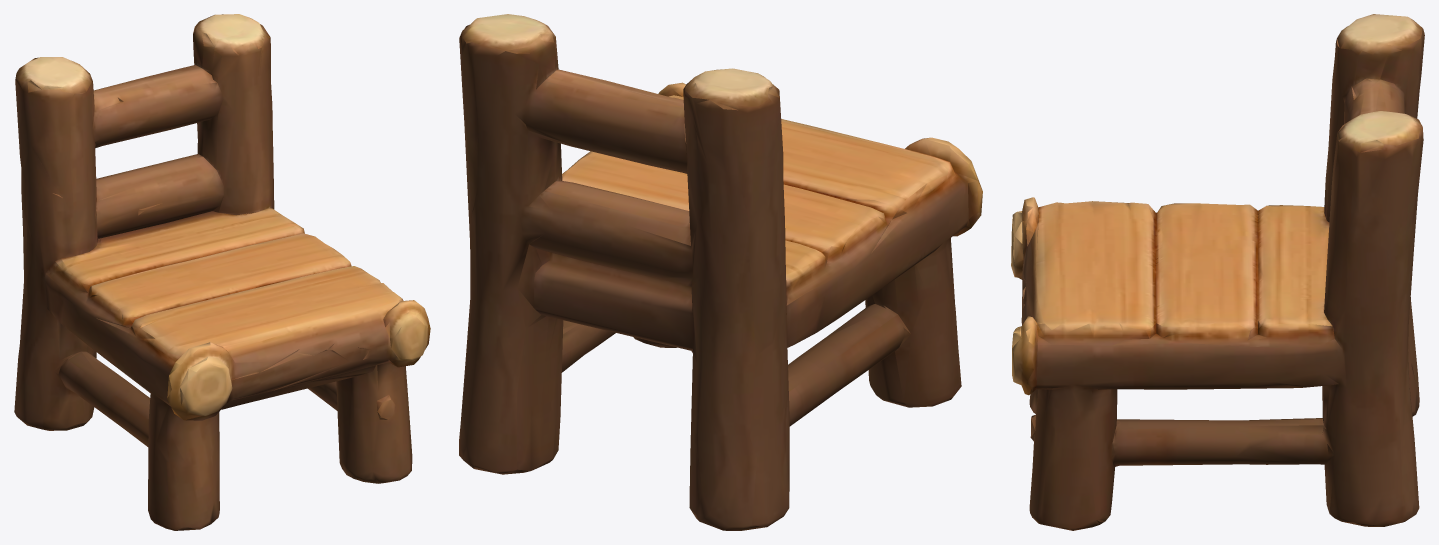
The model's file is chair02.glb.
3 renders of one model, left to right at view 1: azimuth 30°, elevation 25°; view 2: azimuth 150°, elevation 25°; view 3: azimuth 270°, elevation 25°, orthographic. The views are drawn at different scales.
Bounding box in the file's own units: 0.1695 × 0.2162 × 0.2081.
Materials: 1 (1 with a texture image).
